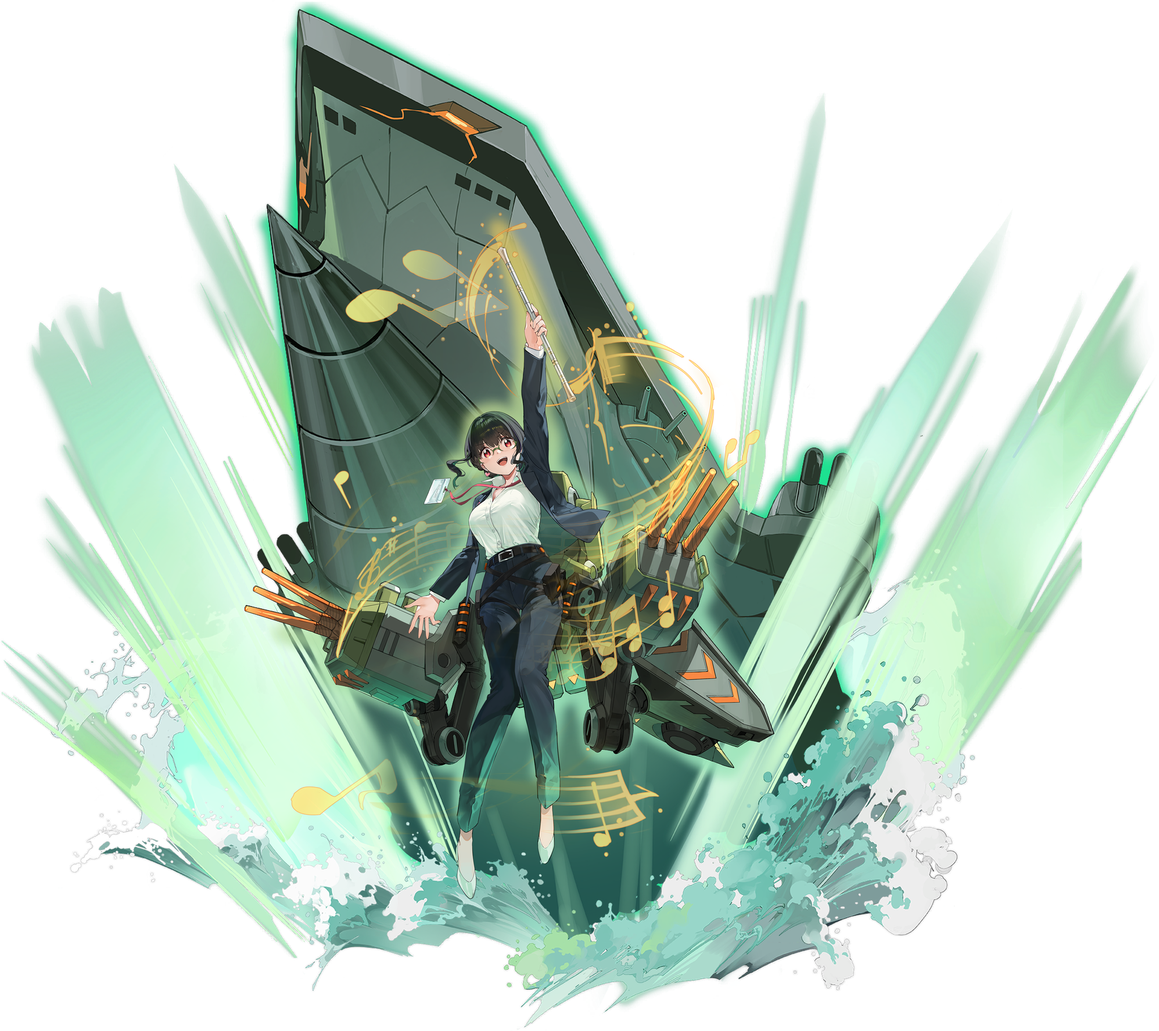person: (385, 365, 609, 922)
